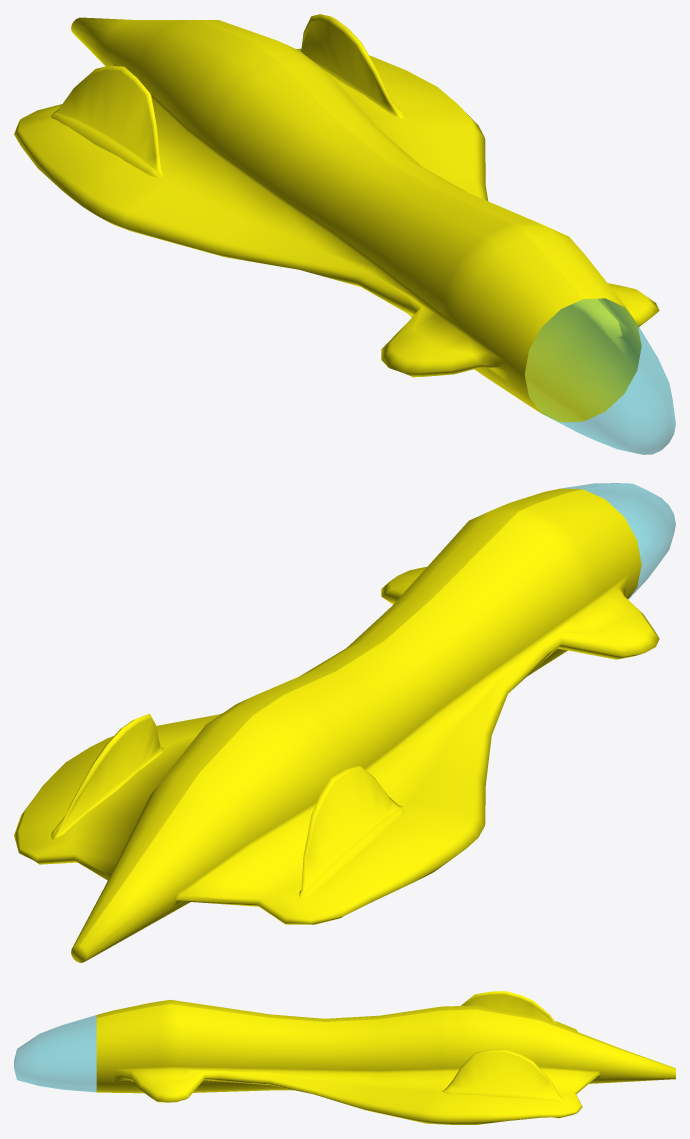
The model's file is testSize.FBX.
3 views of the same model, one above another, from view 1: azimuth 30°, elevation 25°; view 2: azimuth 150°, elevation 25°; view 3: azimuth 270°, elevation 25° (orthographic). The views are drawn at different scales.
Parts seen in each view (by area): view 1: Cylinder001; view 2: Cylinder001; view 3: Cylinder001.
Part boxes in pixels (x1,y1,x2,y2): Cylinder001: (14, 14, 675, 454); Cylinder001: (14, 483, 675, 962); Cylinder001: (14, 991, 675, 1124).
Bounding box in the file's own units: 8.53 × 3.18 × 22.19.
